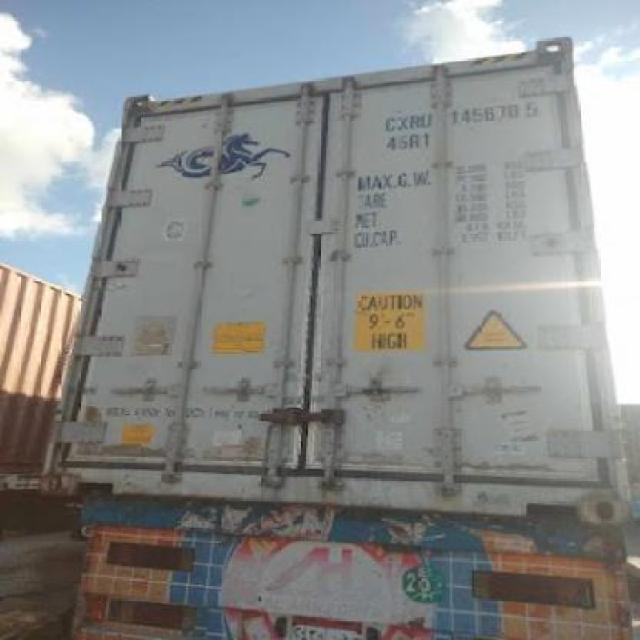ISO: (385, 132, 433, 154)
container_number: (383, 96, 552, 134)
